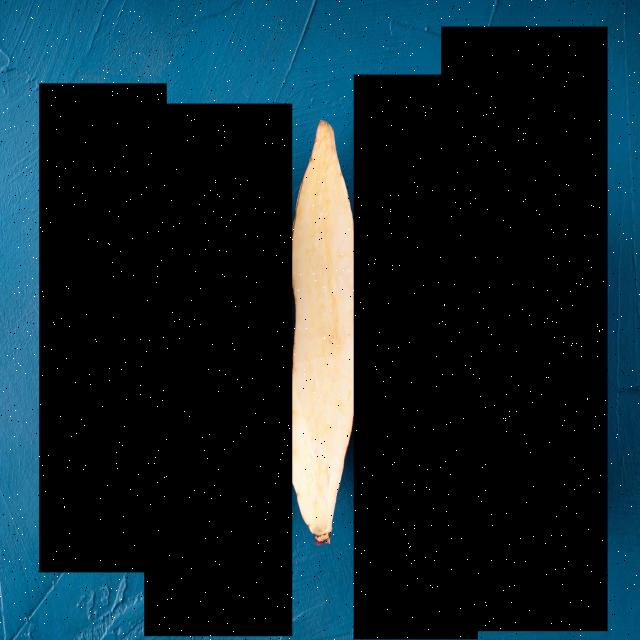Sweet_Potato: (441, 27, 608, 631), (144, 104, 292, 636), (354, 74, 477, 640), (39, 83, 167, 572)
